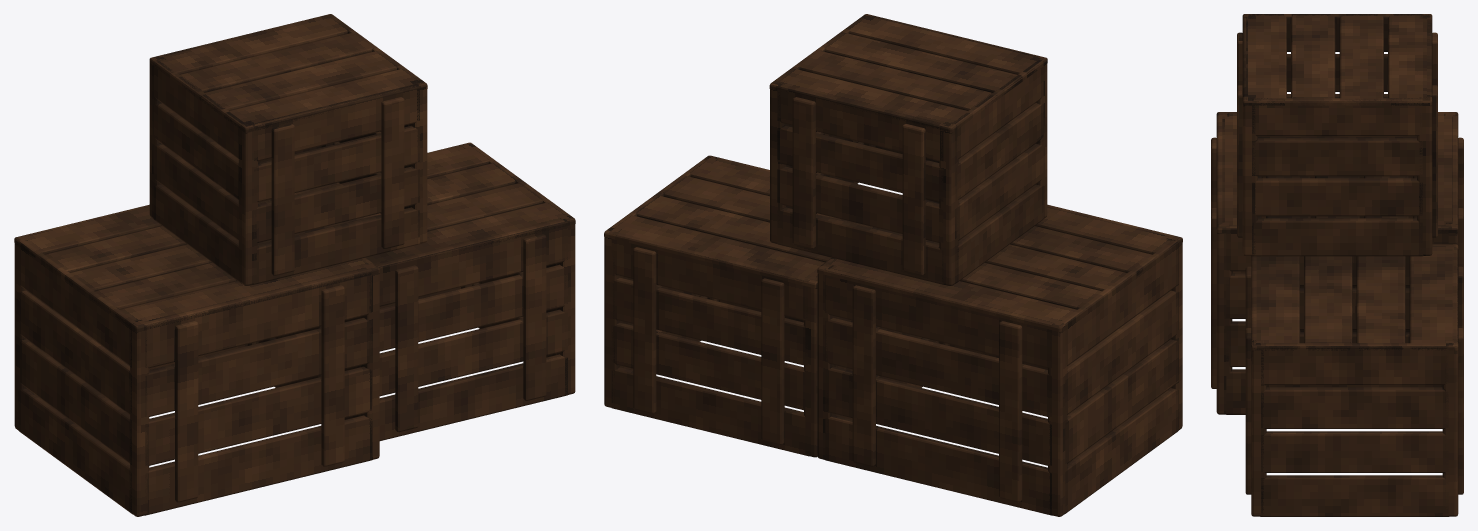
The model's file is room_crates.glb.
3 views of the same model, side by side, from view 1: azimuth 30°, elevation 25°; view 2: azimuth 150°, elevation 25°; view 3: azimuth 270°, elevation 25° (orthographic).
Parts seen in each view (by area): view 1: room_crates; view 2: room_crates; view 3: room_crates.
Boxes of the visible parts, <box> form: room_crates: <box>14,14,575,516</box>; room_crates: <box>604,14,1182,516</box>; room_crates: <box>1211,14,1463,516</box>.
Bounding box in the file's own units: 1.5 × 1.1 × 0.732.
Materials: 1 (1 with a texture image).
